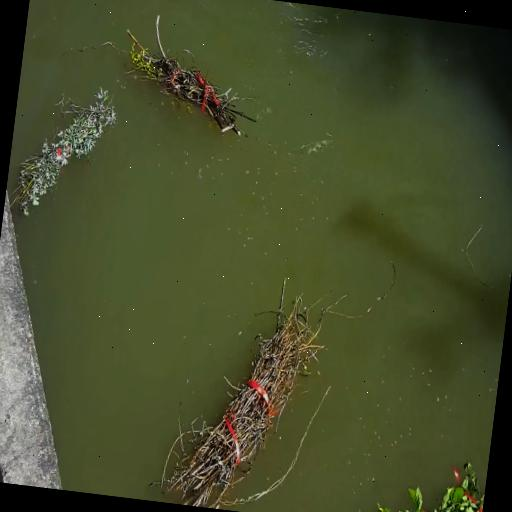twig: (162, 279, 323, 508), (128, 16, 256, 136), (12, 88, 117, 215), (399, 460, 485, 512)
